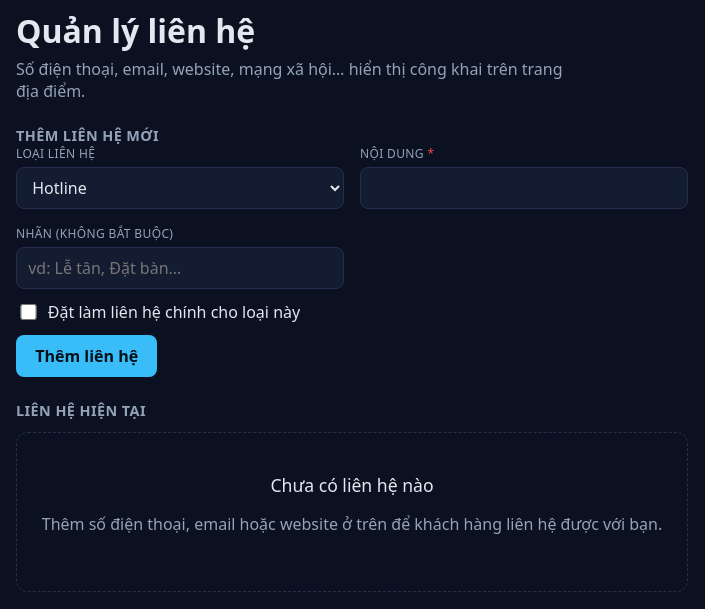
ContactsView — thêm liên hệ › điền hợp lệ -> gọi createPlaceContact ĐÚNG payload, hiển thị thông báo thành công, tải lại danh sách
Check: the text "Chưa có liên hệ nào" is shown, box [270,473,434,497]
Select "Điện thoại" in the dropdown labelled "Loại liên hệ" at (180, 188), box [16,167,344,209]
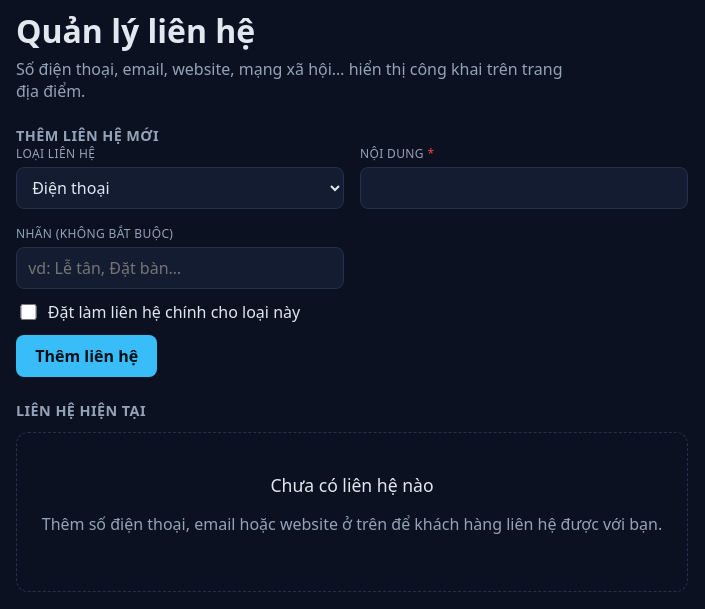
Type "0909123456" into the field labelled "Nội dung *" at (524, 188), box [360,167,688,209]
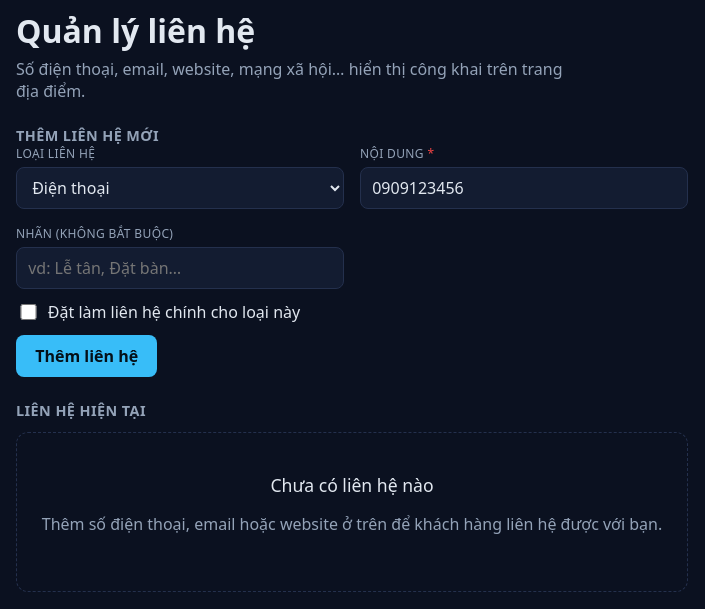
Type "Lễ tân" into the field labelled "Nhãn (không bắt buộc)" at (180, 268), box [16,247,344,289]
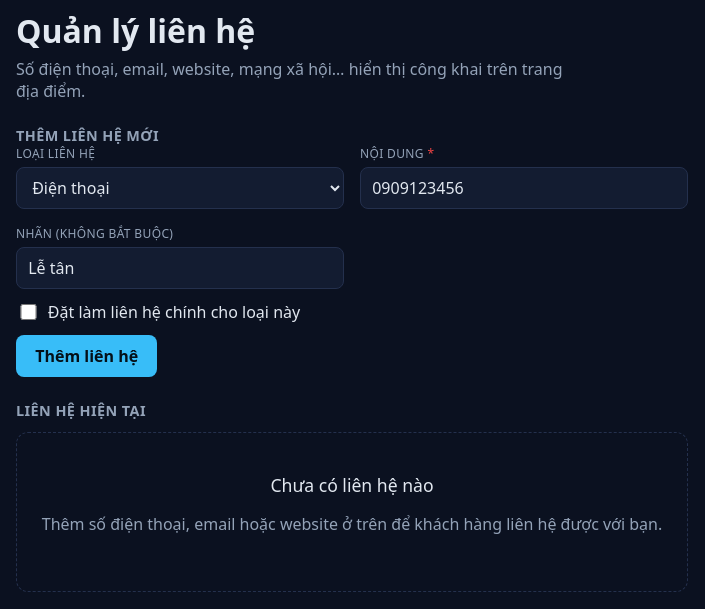
Click the checkbox labelled "Đặt làm liên hệ chính cho loại này" at (28, 312), box [20,304,37,320]
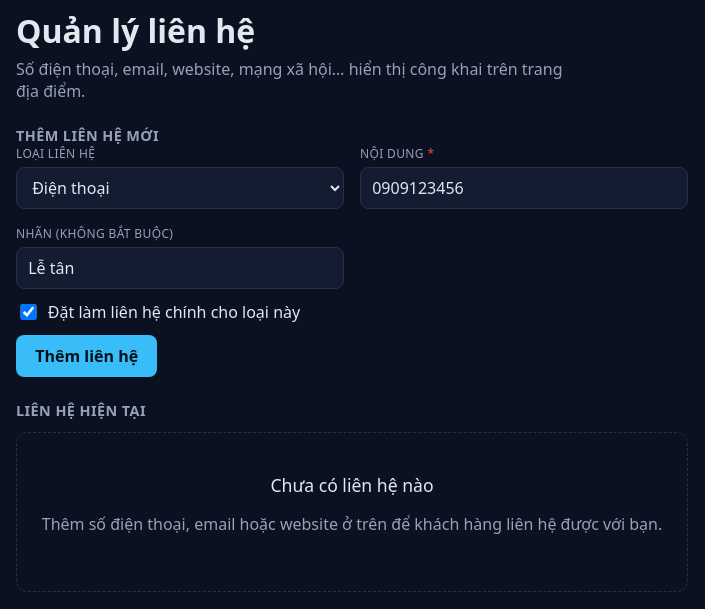
Click the button "Thêm liên hệ" at (87, 356), box [16,335,157,377]
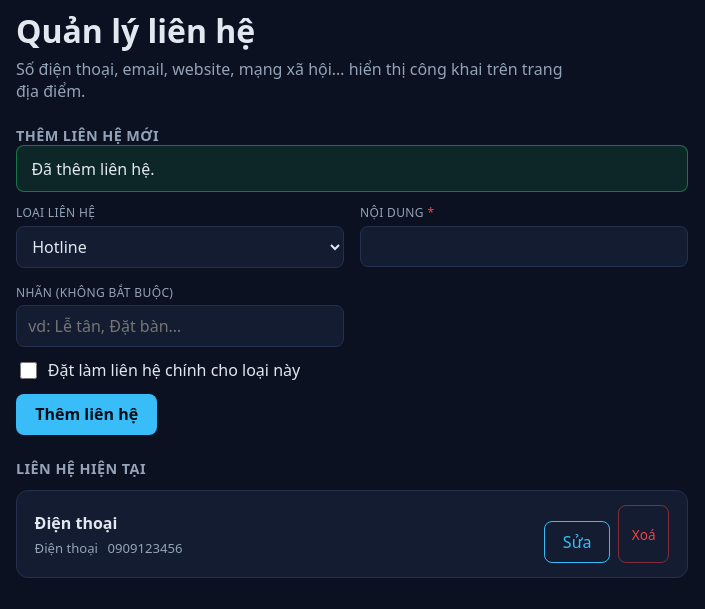
Check: the text "Đã thêm liên hệ." is shown, box [16,145,688,192]
